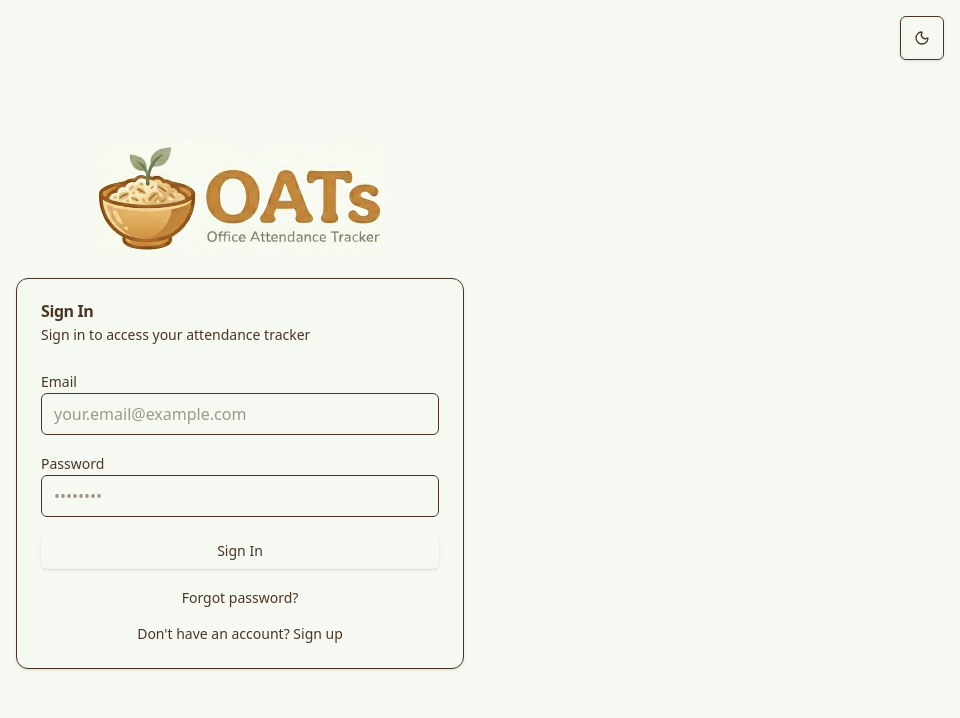
Test case: LoginPage › Validation › should validate password length
Type "test@example.com" into the field labelled "Email".
click(240, 414); type("test@example.com")  # box [41, 392, 439, 434]
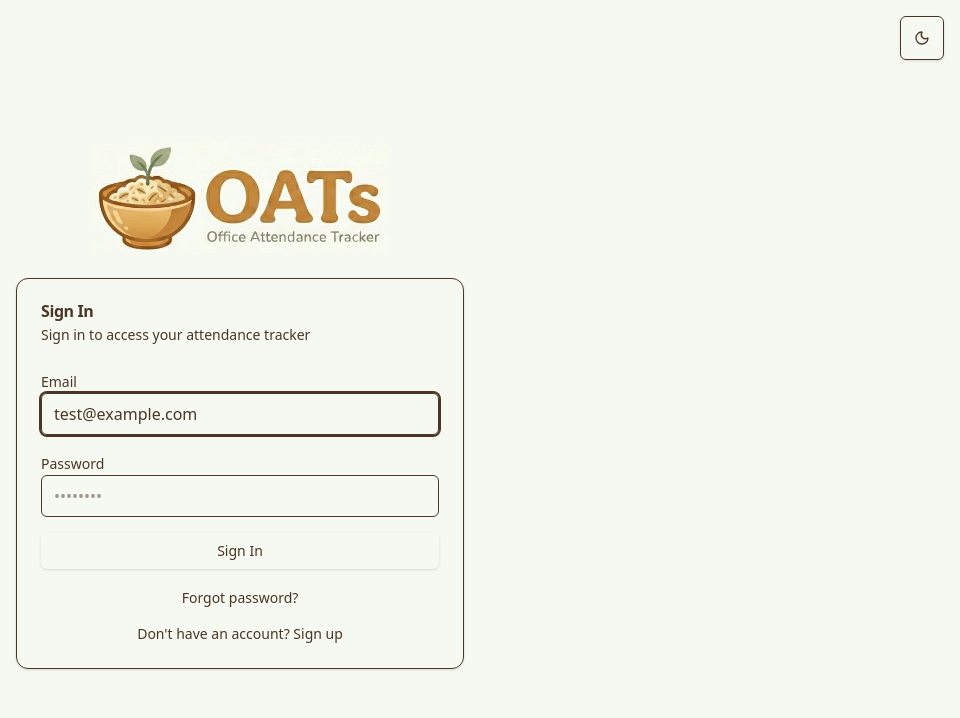
Type "12345" into the password field labelled "Password".
click(240, 496); type("12345")  # box [41, 474, 439, 516]
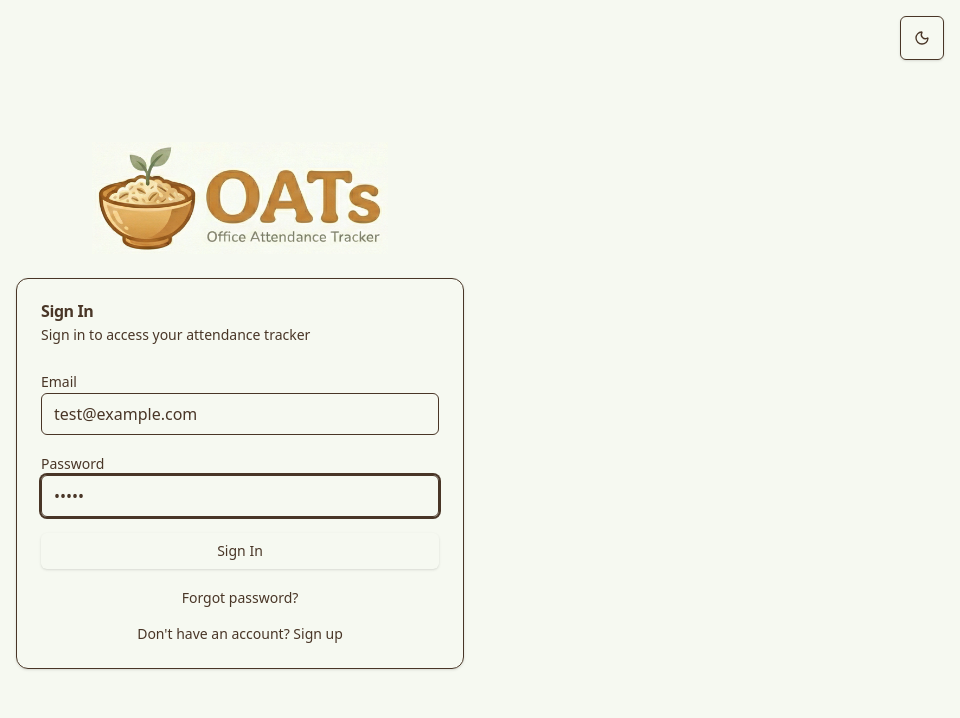
Click the button "Sign In".
click(240, 550)  # box [41, 532, 439, 568]
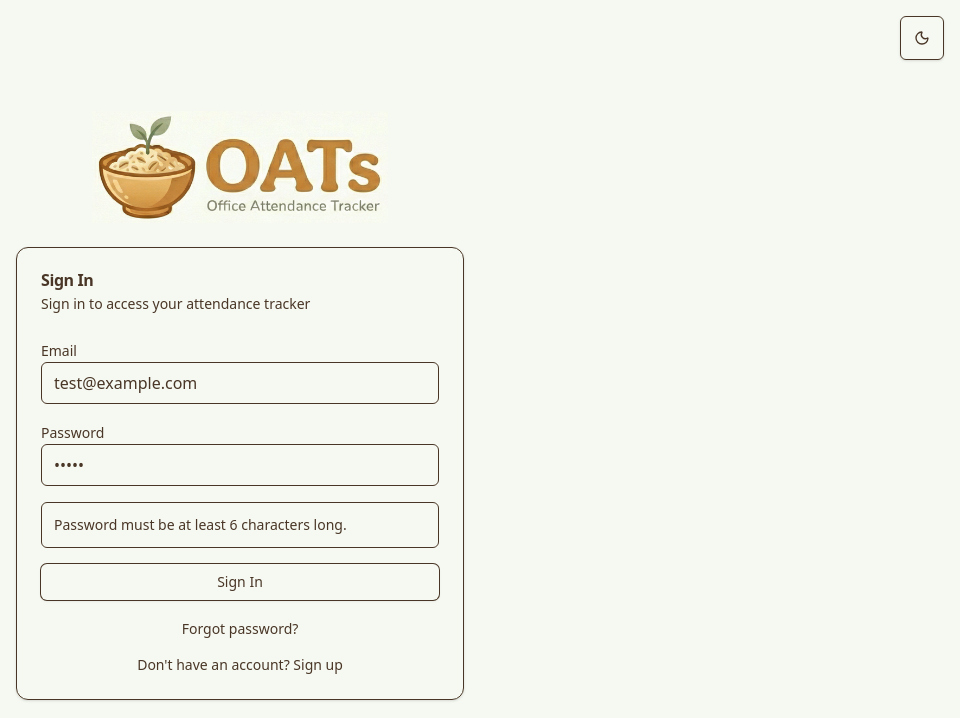
Expected: the text "Password must be at least 6 characters long." is shown, [41, 502, 439, 548]
